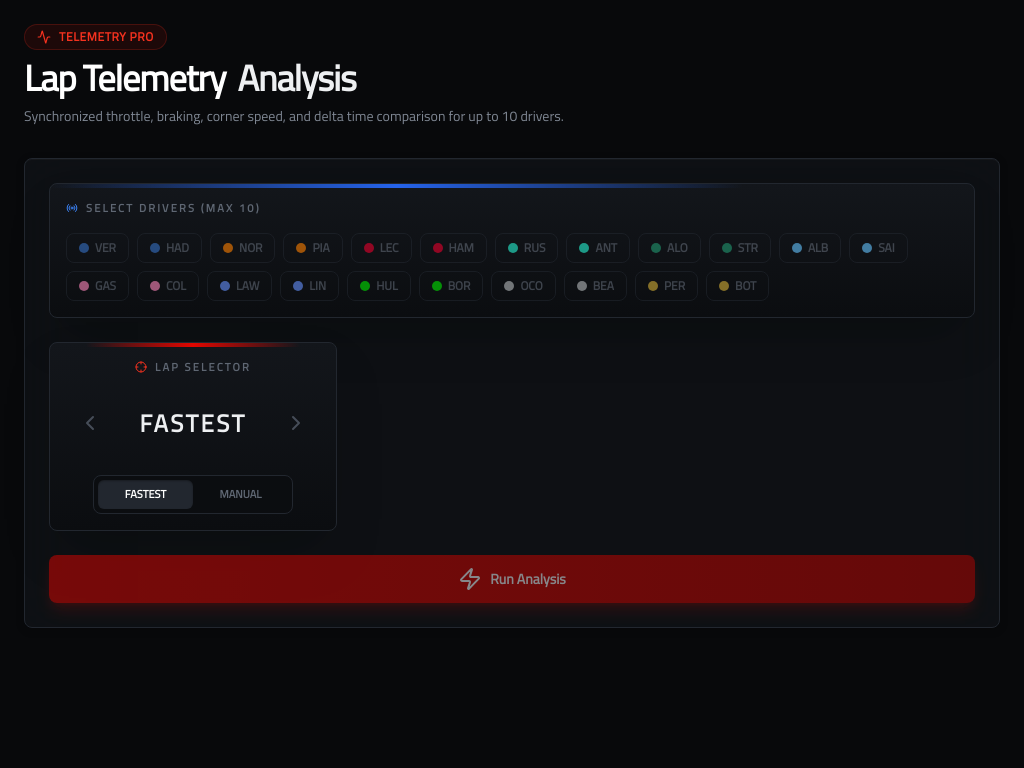
Scenario: TelemetryTab with partial backend payloads › renders the empty payload when the backend selected no drivers
Click the button "VER": (98, 248) [66,232,129,262]
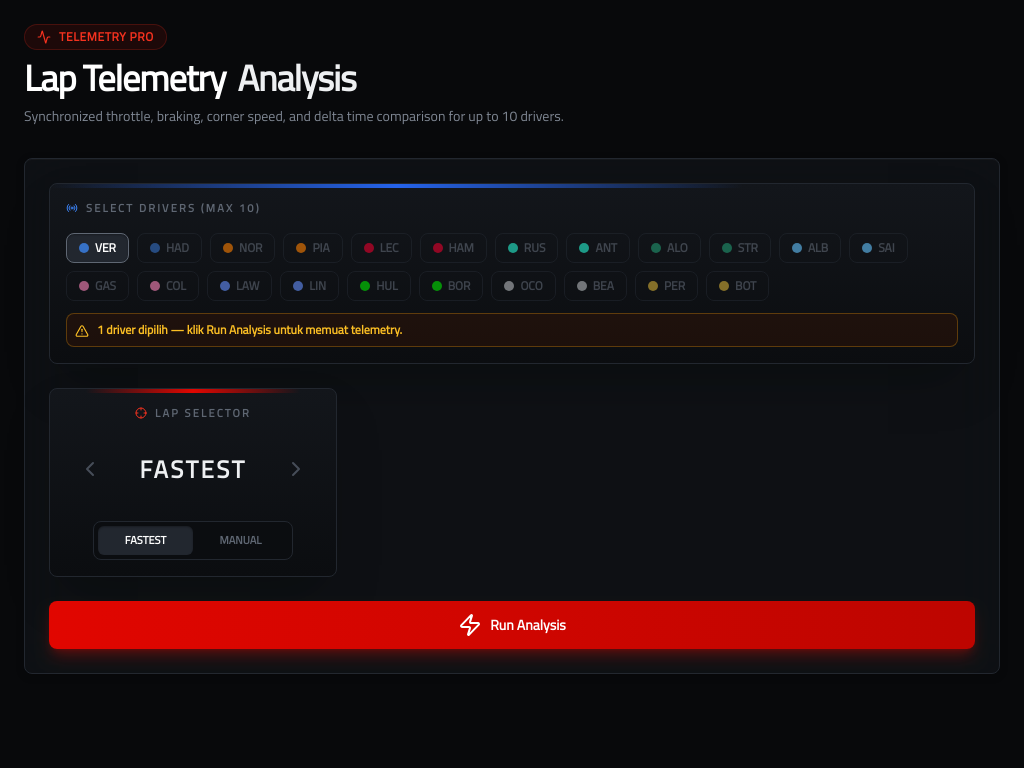
Click the button "Run Analysis": (512, 624) [49,600,975,648]
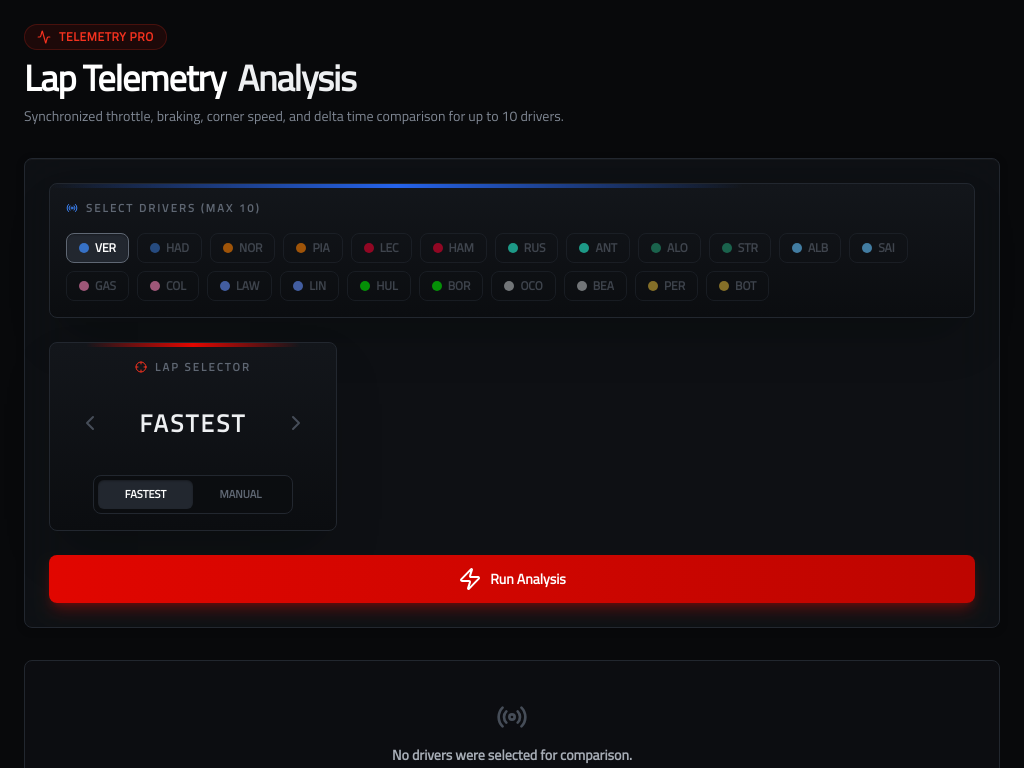
Now the text "No drivers were selected for comparison." is shown, box [392,744,632,764]
